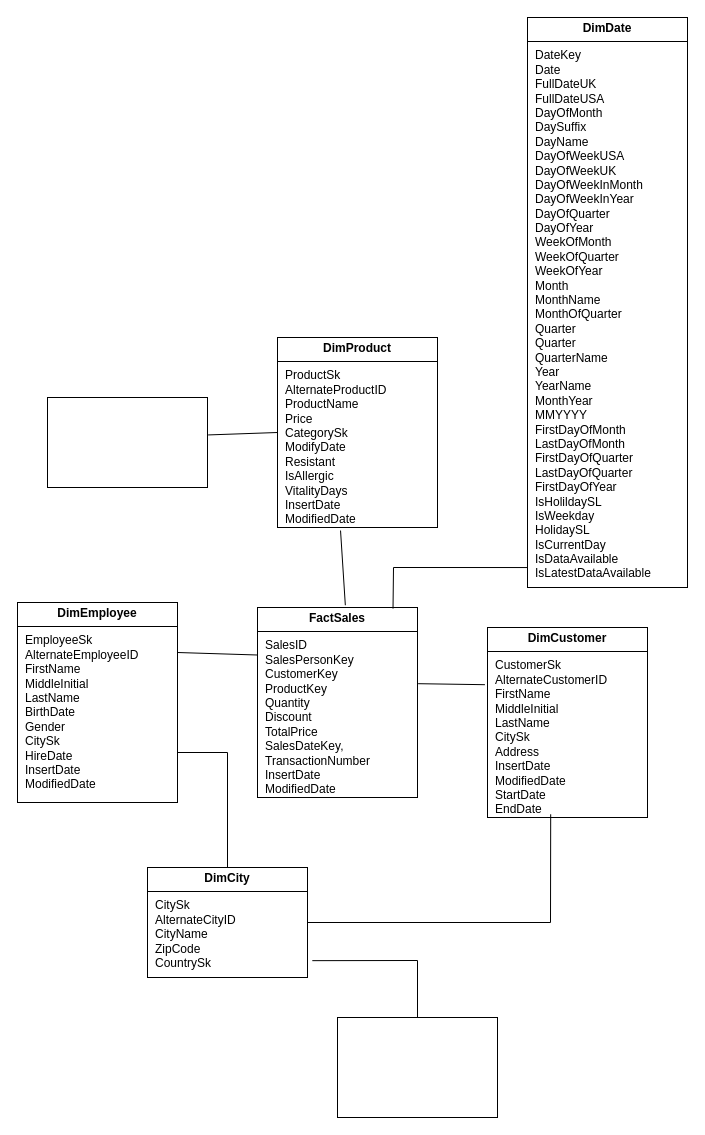
This 705x1135 diagram has some shape labels left out. The shapes that lost their labels are listed below. From the top down, each one's centre as x and y in pixels, then its label:
At point 127,442: "DimProductCategory ProductCategorySk AlternateProductCategoryId CategoryName".
At point 417,1067: "DimCountry CountrySk AlternateCountryID CountryName CountryCode".
